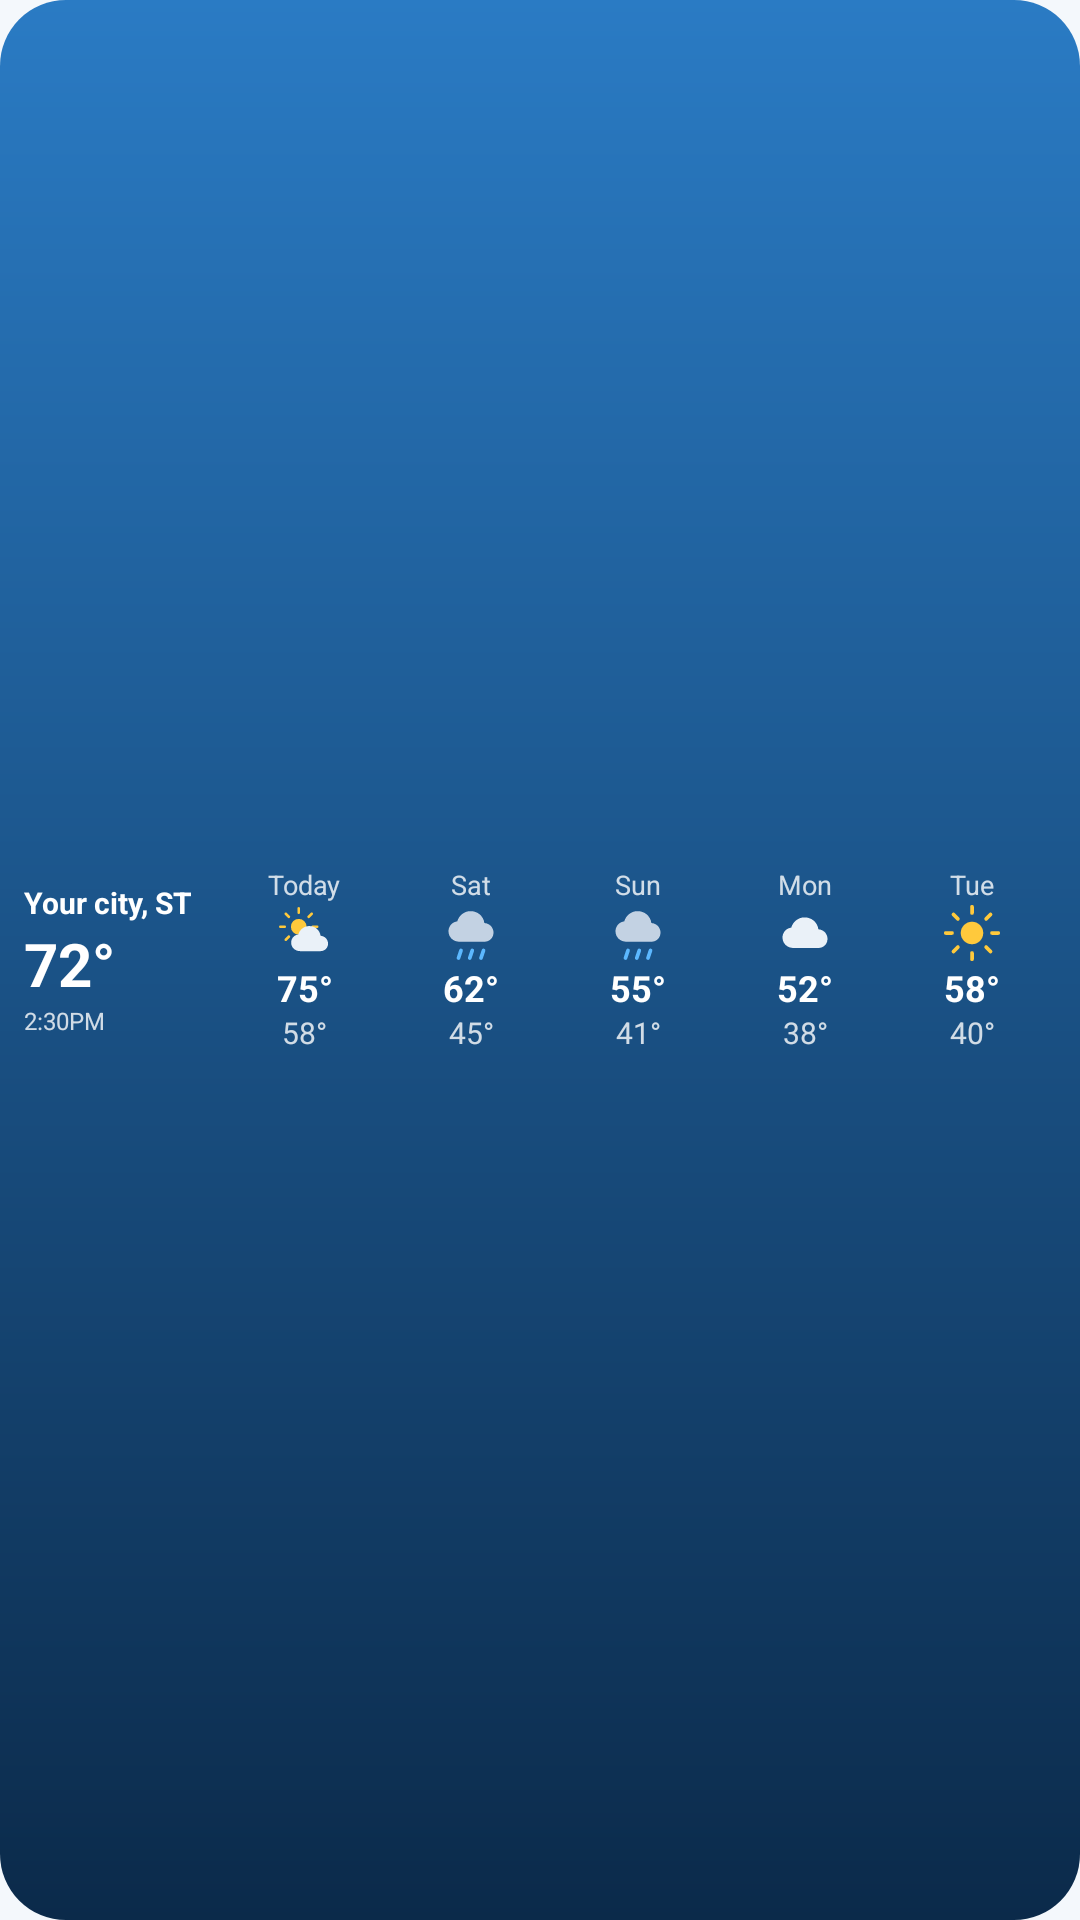

Screen size 1080 × 1920. Icon name, then its box in pixels as (x1, y1, x2, y2):
cloud: (782, 917, 828, 948)
partly day: (279, 907, 328, 952)
rain: (448, 911, 494, 960), (615, 911, 661, 960)
sun: (944, 905, 1000, 961)
